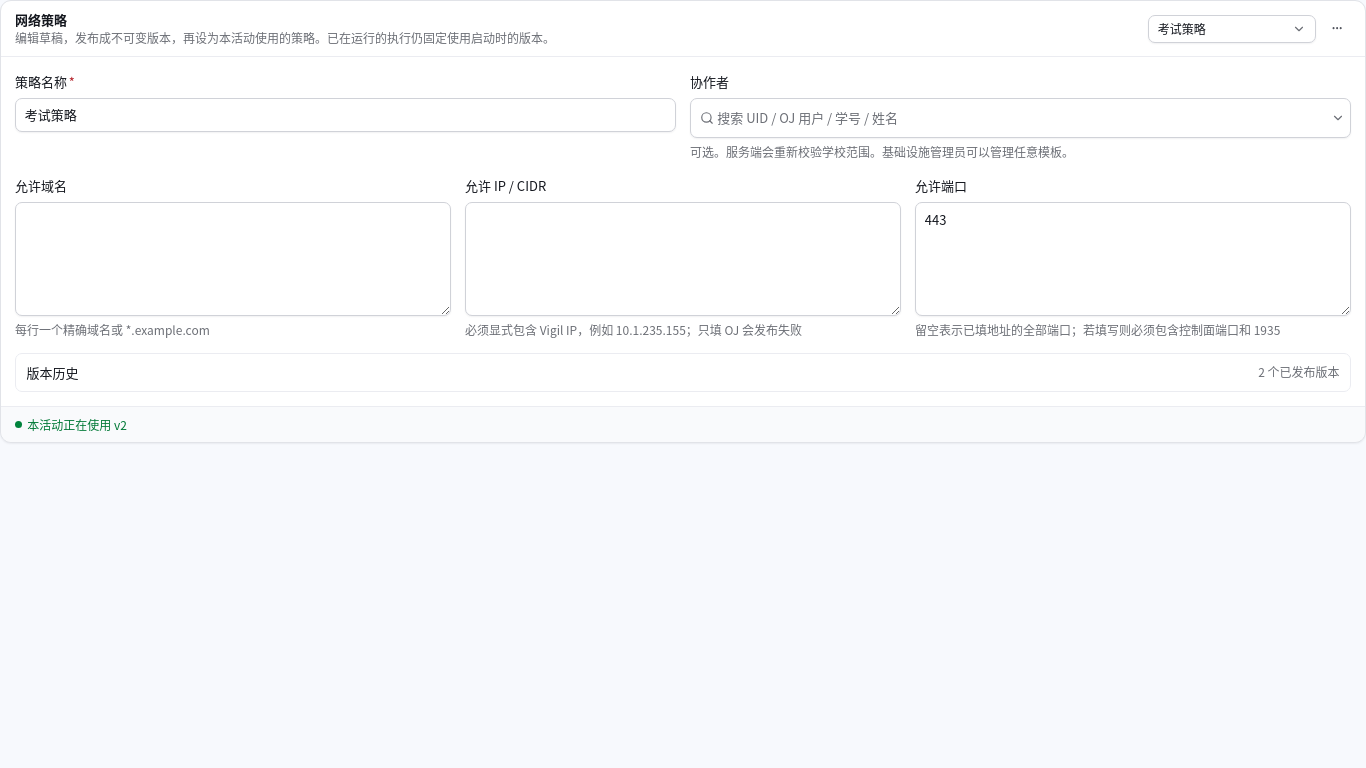
Test case: exam event policy step › 本活动正在使用的历史版本不提供改用此版本
This screenshot has width=1366, height=768.
Expected: the field showing "考试策略" is shown, top-left (15, 98), bottom-right (676, 132)
Click the heading "版本历史 2 个已发布版本": x=53, y=372 top-left (26, 363), bottom-right (1340, 382)
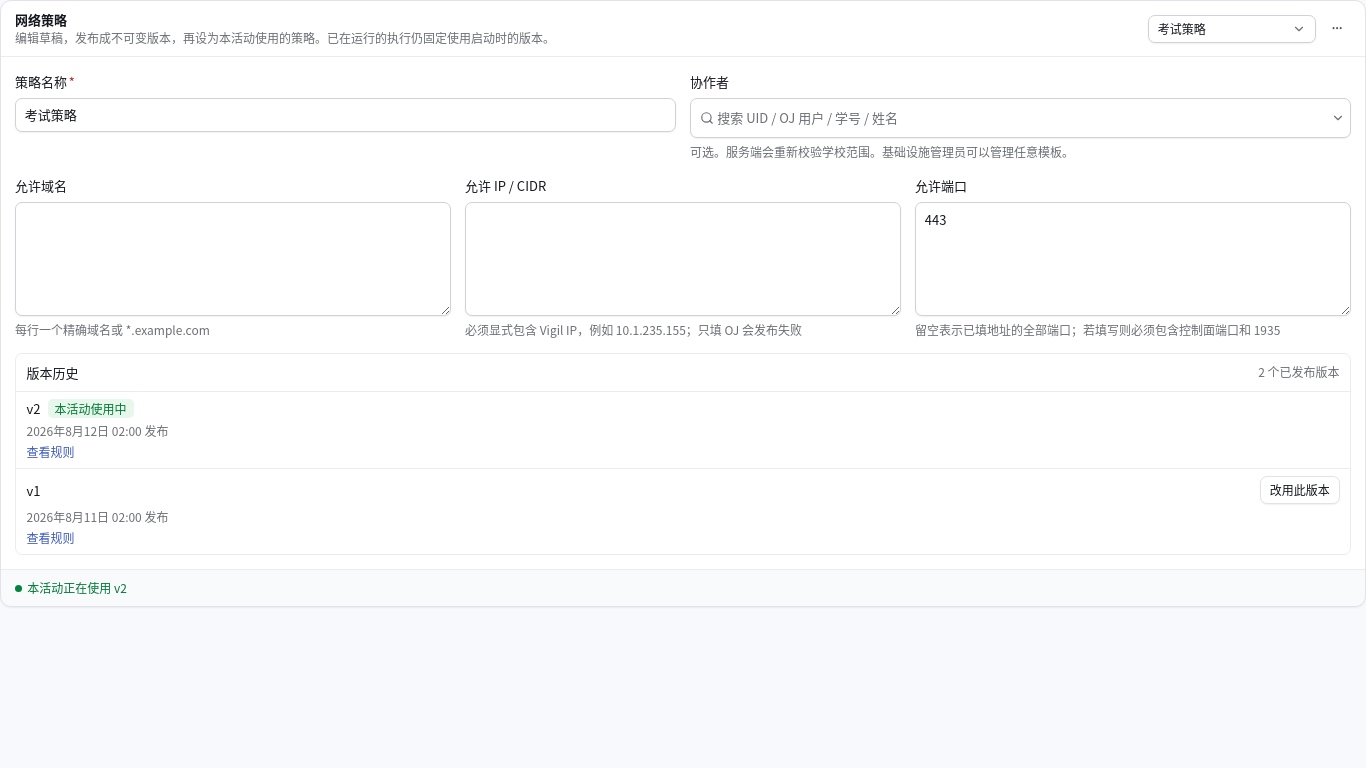
Expected: the button "改用此版本" is shown, top-left (1260, 476), bottom-right (1340, 504)
